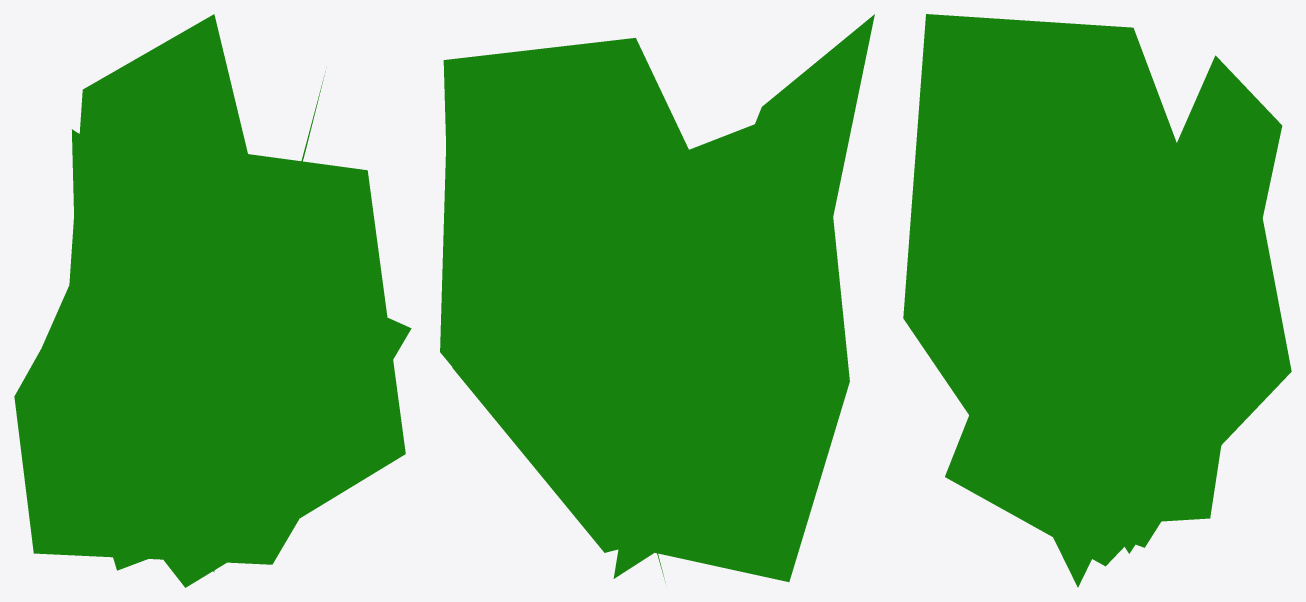
File: FungiCoral_1.fbx
3 renders of one model, left to right at view 1: azimuth 30°, elevation 25°; view 2: azimuth 150°, elevation 25°; view 3: azimuth 270°, elevation 25°, orthographic. The views are drawn at different scales.
Visible parts, largest first — view 1: FungiCoral_1; view 2: FungiCoral_1; view 3: FungiCoral_1.
Boxes of the visible parts, x1,y1,x2,y2 form: FungiCoral_1: (14, 14, 411, 587); FungiCoral_1: (440, 14, 874, 582); FungiCoral_1: (903, 14, 1291, 587).
Size of the model in its own units: 14.1 by 19.1 by 13.43.
